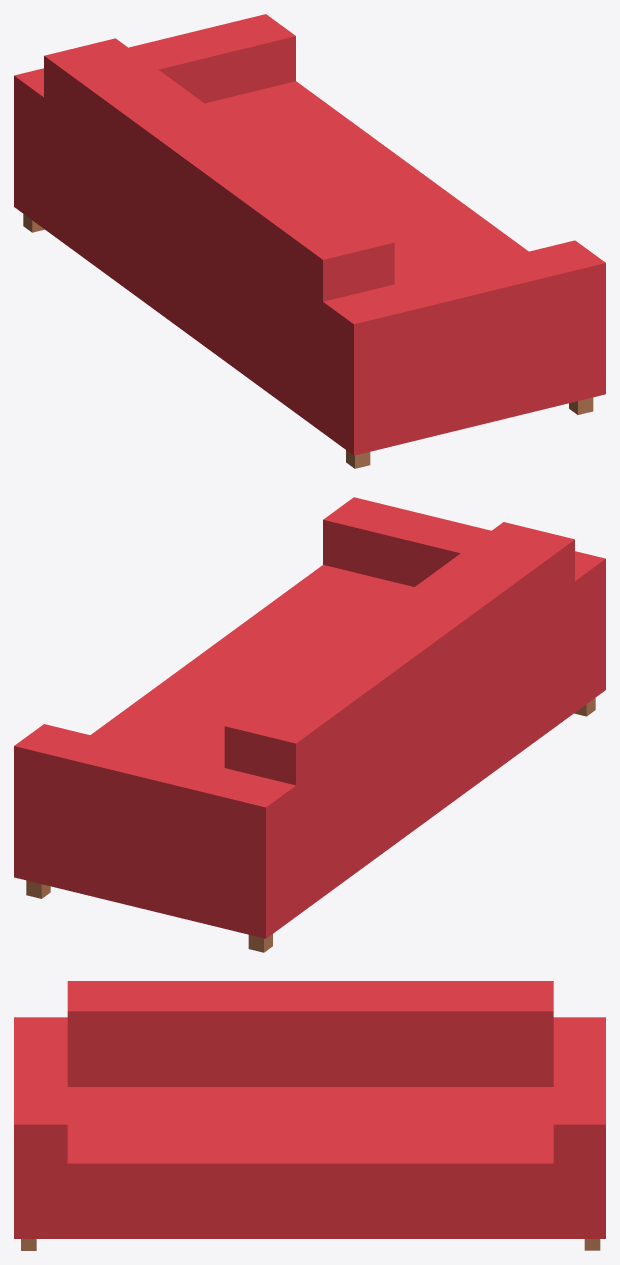
The model's file is sofa.fbx.
The picture shows the model from 3 angles, top to bottom: view 1: azimuth 30°, elevation 25°; view 2: azimuth 150°, elevation 25°; view 3: azimuth 270°, elevation 25°; orthographic projection. The views are drawn at different scales.
Visible parts, largest first — view 1: arm chair.001; view 2: arm chair.001; view 3: arm chair.001.
Boxes of the visible parts, left/top/right/bottom form: arm chair.001: left=14, top=14, right=605, bottom=455; arm chair.001: left=14, top=497, right=605, bottom=938; arm chair.001: left=14, top=981, right=605, bottom=1238.
Size of the model in its own units: 81.47 by 59.06 by 190.
